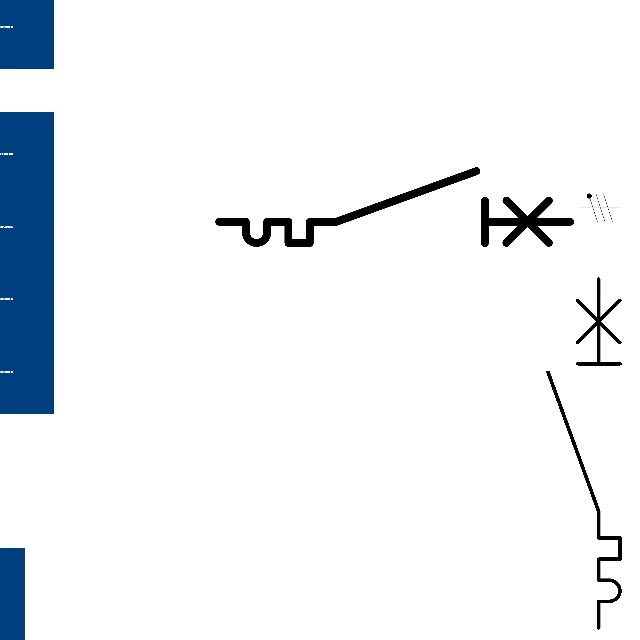interruptor_termomagnetico: (210, 162, 579, 252), (539, 270, 629, 637)
